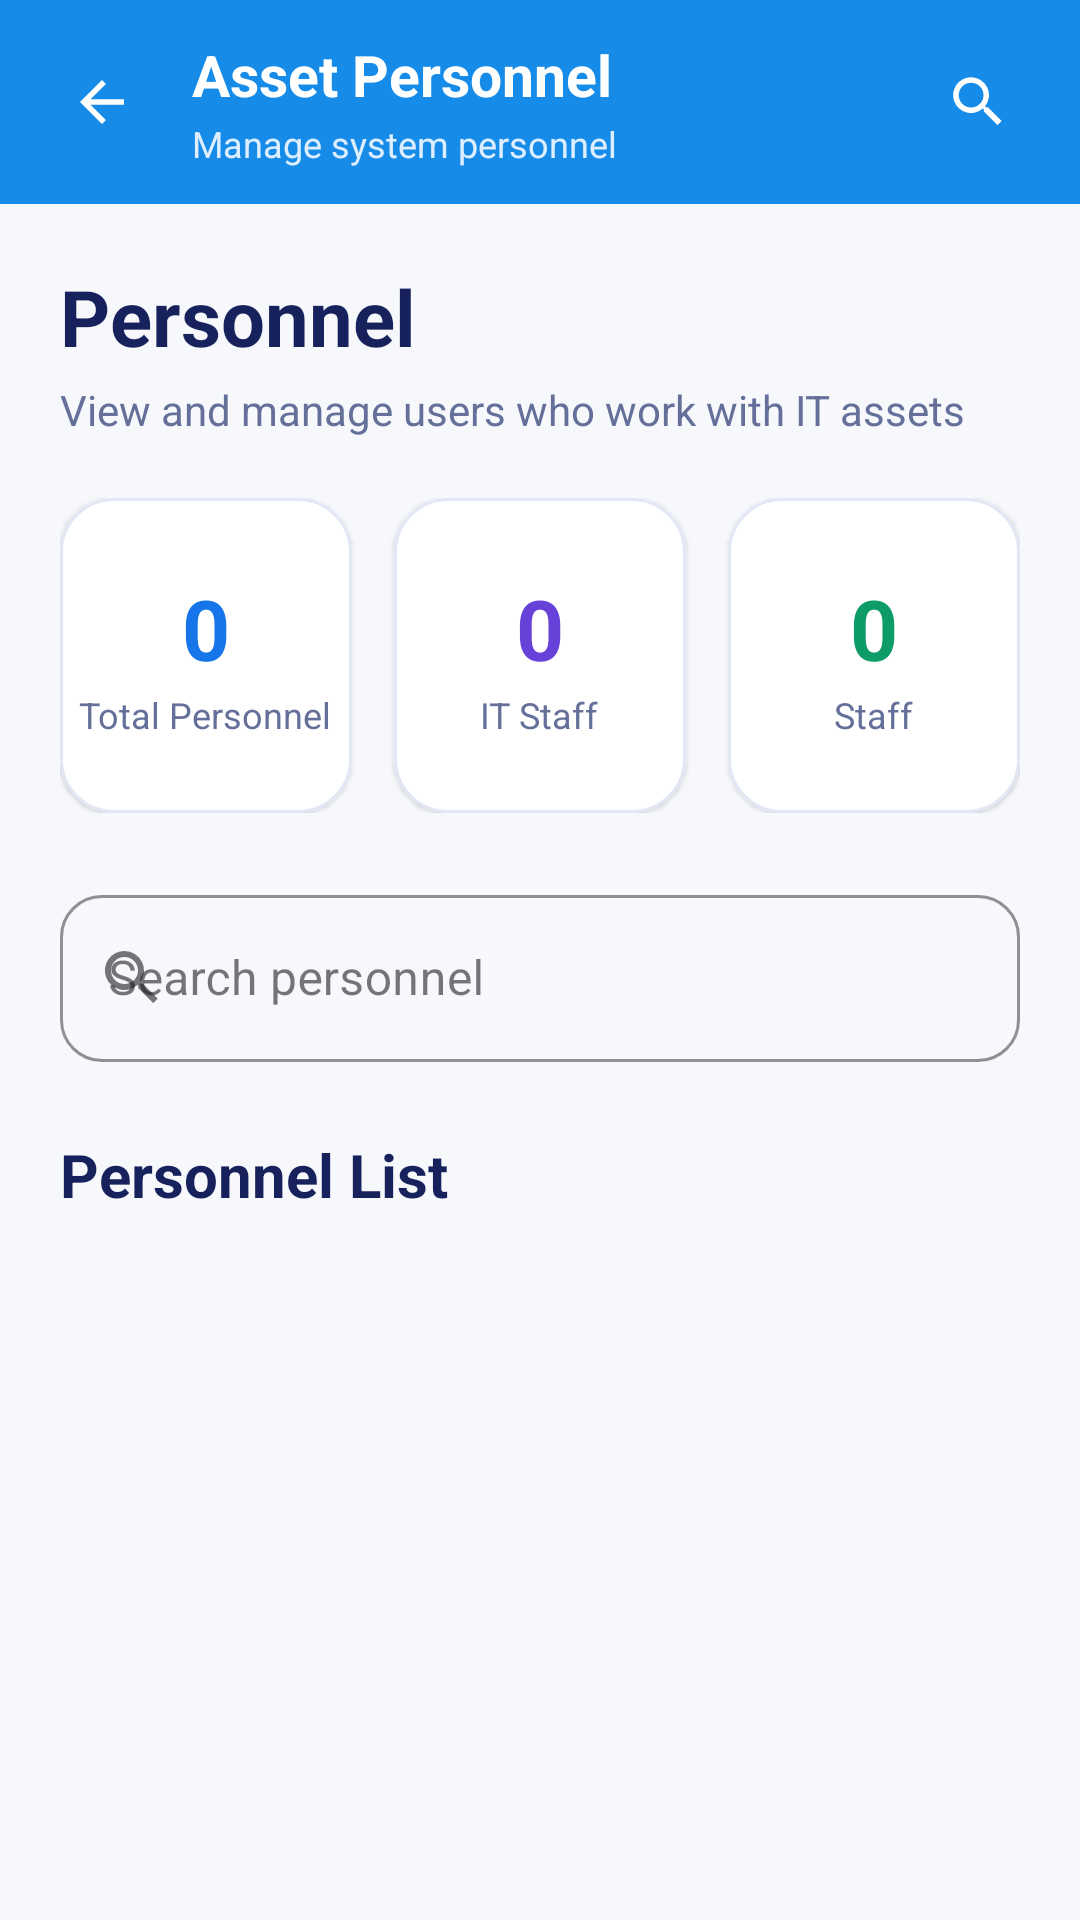

Locate icon controls on the screen. Image size 1080px x 1920px, boxes as (left=x1, top=y1, right=x2, bottom=y2).
Back: (left=80, top=80, right=124, bottom=124)
Search: (left=953, top=77, right=1002, bottom=125)
